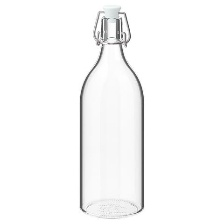bottle: (77, 1, 152, 221)
